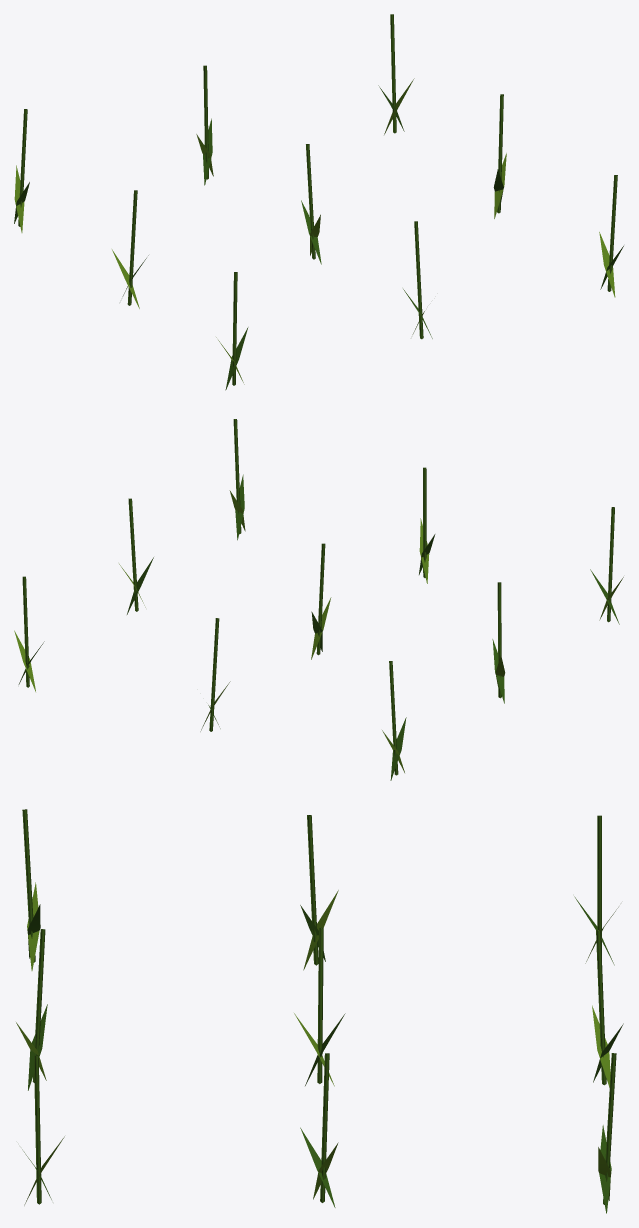
File: crop-cell-wheat-seedling.obj
The picture shows the model from 3 angles, top to bottom: view 1: azimuth 30°, elevation 25°; view 2: azimuth 150°, elevation 25°; view 3: azimuth 270°, elevation 25°; orthographic projection. The views are drawn at different scales.
Visible parts, largest first — view 1: crop-cell-wheat-seedling; view 2: crop-cell-wheat-seedling; view 3: crop-cell-wheat-seedling.
Boxes of the visible parts, x1,y1,x2,y2 form: crop-cell-wheat-seedling: (14, 14, 623, 390); crop-cell-wheat-seedling: (14, 419, 623, 780); crop-cell-wheat-seedling: (16, 809, 623, 1213).
Size of the model in its own units: 0.5634 by 0.1527 by 0.5496.
Materials: 1 (1 with a texture image).
